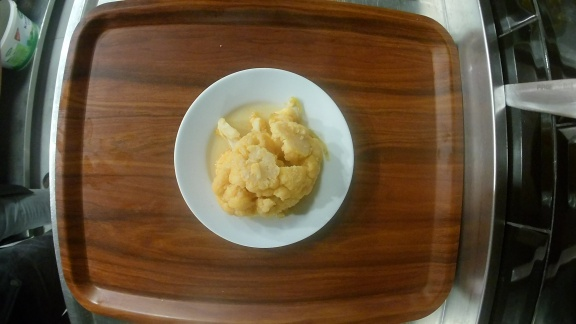karnibahar: (170, 66, 357, 249)
